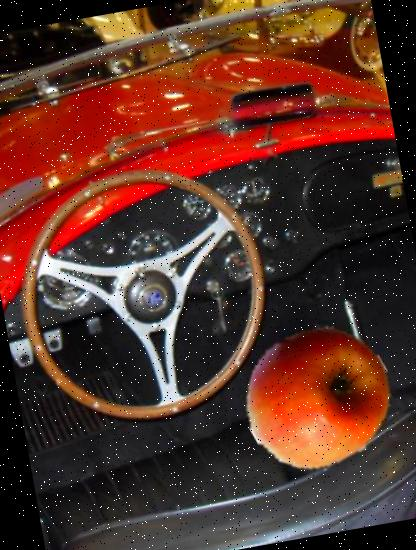Apple: (231, 311, 404, 484)
